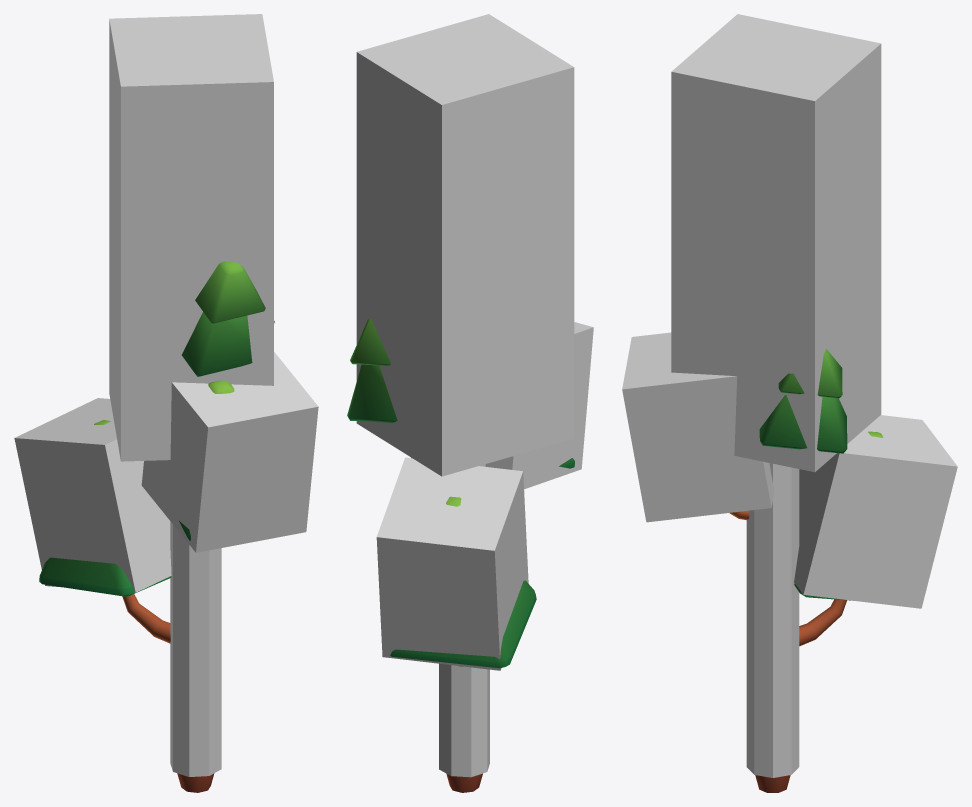
File: tree_2_a.glb
The picture shows the model from 3 angles, left to right: view 1: azimuth 30°, elevation 25°; view 2: azimuth 150°, elevation 25°; view 3: azimuth 270°, elevation 25°; orthographic projection.
Visible parts, largest first — view 1: COL_BOX_01.003, COL_BOX_01.012, COL_BOX_01.013, COL_CYL_00.003, Tree_4_C_Color1; view 2: COL_BOX_01.003, COL_BOX_01.013, Tree_4_C_Color1, COL_CYL_00.003, COL_BOX_01.012; view 3: COL_BOX_01.003, COL_BOX_01.013, COL_BOX_01.012, COL_CYL_00.003, Tree_4_C_Color1.
Boxes of the visible parts, x1=… form: COL_BOX_01.003: x1=109, y1=14, x2=273, y2=461; COL_BOX_01.012: x1=141, y1=352, x2=318, y2=552; COL_BOX_01.013: x1=14, y1=398, x2=171, y2=592; COL_CYL_00.003: x1=170, y1=521, x2=221, y2=776; Tree_4_C_Color1: x1=39, y1=261, x2=274, y2=792; COL_BOX_01.003: x1=356, y1=14, x2=574, y2=476; COL_BOX_01.013: x1=376, y1=457, x2=528, y2=670; Tree_4_C_Color1: x1=347, y1=318, x2=574, y2=792; COL_CYL_00.003: x1=439, y1=464, x2=489, y2=777; COL_BOX_01.012: x1=411, y1=322, x2=593, y2=489; COL_BOX_01.003: x1=671, y1=14, x2=881, y2=472; COL_BOX_01.013: x1=794, y1=415, x2=957, y2=608; COL_BOX_01.012: x1=622, y1=332, x2=774, y2=522; COL_CYL_00.003: x1=746, y1=463, x2=799, y2=777; Tree_4_C_Color1: x1=729, y1=348, x2=883, y2=792.
Bounding box in the file's own units: 1.15 × 4.18 × 1.74.
Materials: 1 (1 with a texture image).
